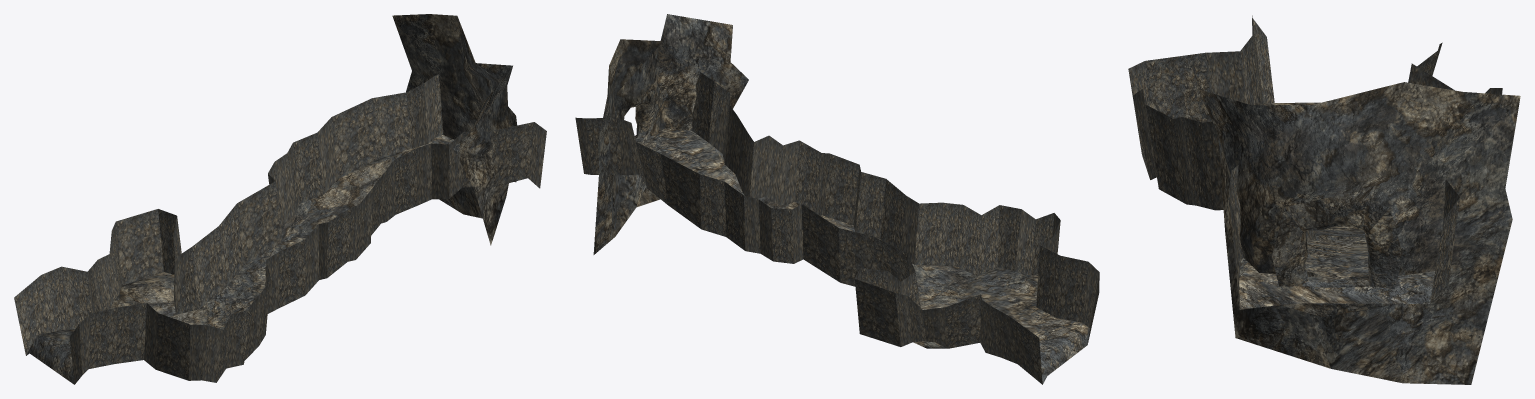
The model's file is Module14_phys.fbx.
3 views of the same model, side by side, from view 1: azimuth 30°, elevation 25°; view 2: azimuth 150°, elevation 25°; view 3: azimuth 270°, elevation 25° (orthographic). The views are drawn at different scales.
Parts seen in each view (by area): view 1: polySurface419; view 2: polySurface419; view 3: polySurface419.
Part boxes in pixels (left/top/right/bottom): polySurface419: left=14, top=14, right=546, bottom=384; polySurface419: left=575, top=14, right=1099, bottom=384; polySurface419: left=1128, top=15, right=1520, bottom=384.
Size of the model in its own units: 54.42 by 26.6 by 26.54.
